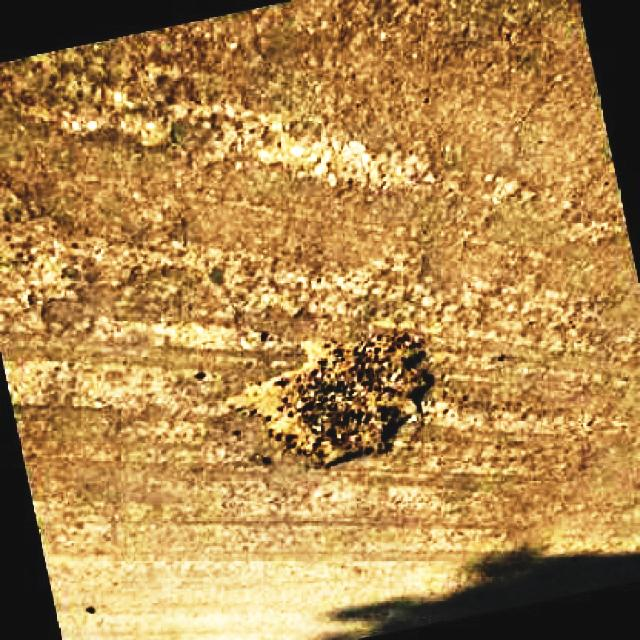pothole: (240, 320, 438, 466), (236, 127, 402, 196)
